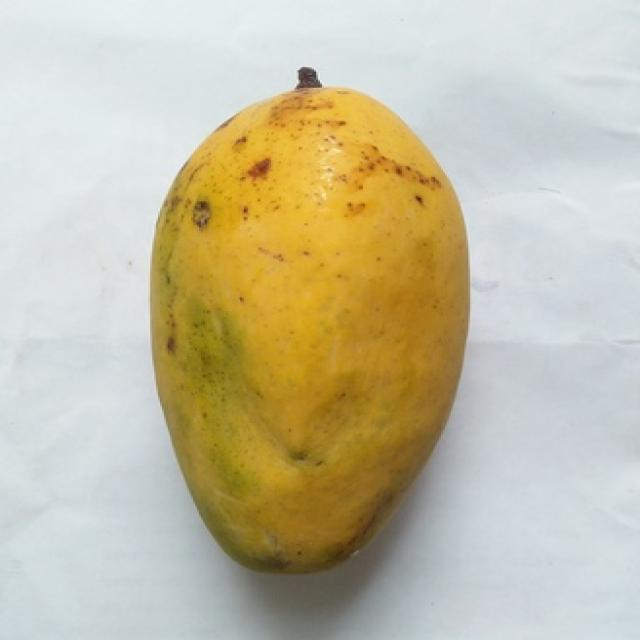Mango: (152, 88, 468, 571)
